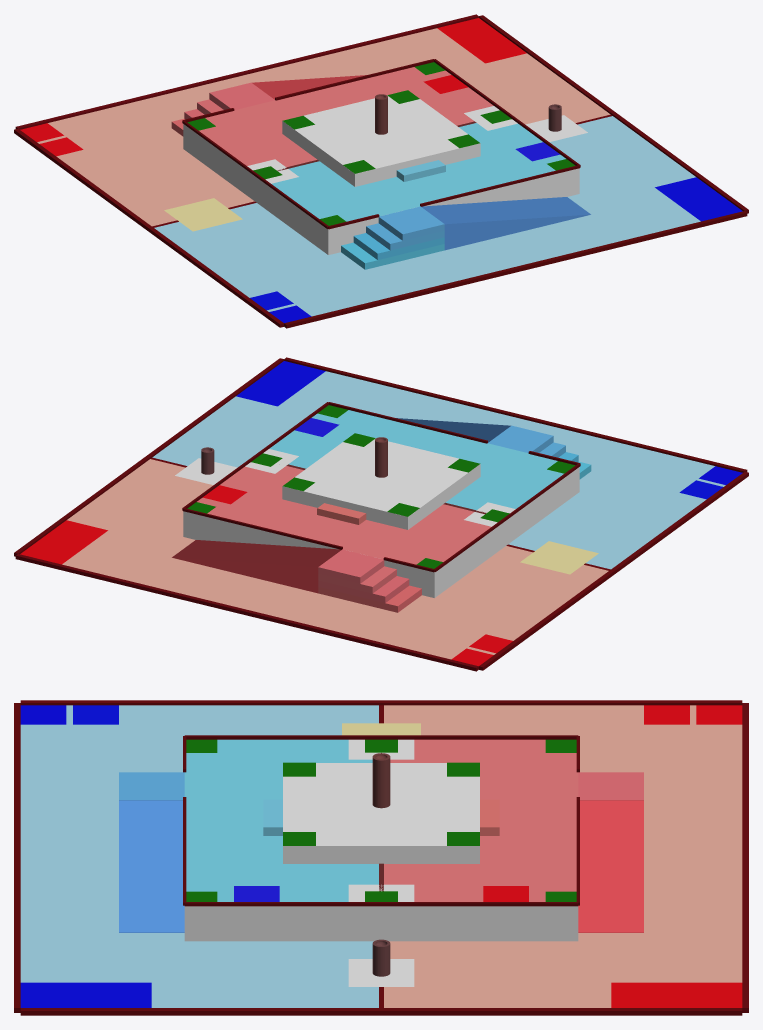
File: venue.dae
3 views of the same model, one above another, from view 1: azimuth 30°, elevation 25°; view 2: azimuth 150°, elevation 25°; view 3: azimuth 270°, elevation 25° (orthographic). The views are drawn at different scales.
Parts seen in each view (by area): view 1: Ground_Blue, Ground_Red, Plane.001, Cube.017, Plane, Cube, Cube.006, Boundary_Wall_Right, Boundary_Wall_Front, Boundary_Wall_Left, Storage_Red, Storage_Blue (+15 smaller); view 2: Ground_Red, Ground_Blue, Plane, Cube.017, Plane.001, Cube, Cube.001, Boundary_Wall_Left, Boundary_Wall_Front, Boundary_Wall_Right, Storage_Blue, Storage_Red (+15 smaller); view 3: Ground_Red, Ground_Blue, Plane, Plane.001, Cube.017, Cube, Cube.001, Cube.006, Boundary_Wall_Back, Boundary_Wall_Front, Storage_Blue, Storage_Red (+20 smaller).
Part boxes in pixels (x1=…): Ground_Blue: x1=154, y1=116, x2=700, y2=316; Ground_Red: x1=37, y1=28, x2=610, y2=226; Plane.001: x1=271, y1=123, x2=565, y2=221; Cube.017: x1=282, y1=95, x2=480, y2=186; Plane: x1=199, y1=67, x2=493, y2=167; Cube: x1=183, y1=124, x2=579, y2=254; Cube.006: x1=421, y1=197, x2=590, y2=250; Boundary_Wall_Right: x1=284, y1=211, x2=747, y2=328; Boundary_Wall_Front: x1=14, y1=128, x2=283, y2=327; Boundary_Wall_Left: x1=15, y1=14, x2=478, y2=129; Storage_Red: x1=437, y1=18, x2=526, y2=63; Storage_Blue: x1=655, y1=177, x2=742, y2=221; Ground_Red: x1=62, y1=459, x2=608, y2=659; Ground_Blue: x1=152, y1=371, x2=725, y2=569; Plane: x1=197, y1=466, x2=491, y2=564; Cube.017: x1=282, y1=438, x2=480, y2=529; Plane.001: x1=269, y1=410, x2=563, y2=510; Cube: x1=183, y1=467, x2=579, y2=597; Cube.001: x1=172, y1=540, x2=341, y2=593; Boundary_Wall_Left: x1=15, y1=554, x2=478, y2=671; Boundary_Wall_Front: x1=479, y1=471, x2=748, y2=670; Boundary_Wall_Right: x1=284, y1=357, x2=747, y2=472; Storage_Blue: x1=236, y1=361, x2=325, y2=406; Storage_Red: x1=20, y1=520, x2=107, y2=564; Ground_Red: x1=384, y1=705, x2=742, y2=1007; Ground_Blue: x1=20, y1=705, x2=378, y2=1007; Plane: x1=384, y1=739, x2=578, y2=901; Plane.001: x1=184, y1=739, x2=378, y2=901; Cube.017: x1=283, y1=763, x2=479, y2=863; Cube: x1=184, y1=906, x2=578, y2=941; Cube.001: x1=578, y1=800, x2=643, y2=932; Cube.006: x1=119, y1=800, x2=184, y2=932; Boundary_Wall_Back: x1=20, y1=1008, x2=742, y2=1015; Boundary_Wall_Front: x1=20, y1=700, x2=742, y2=705; Storage_Blue: x1=20, y1=982, x2=151, y2=1007; Storage_Red: x1=611, y1=982, x2=742, y2=1007.
Size of the model in its own units: 11.2 by 11.2 by 1.74.
